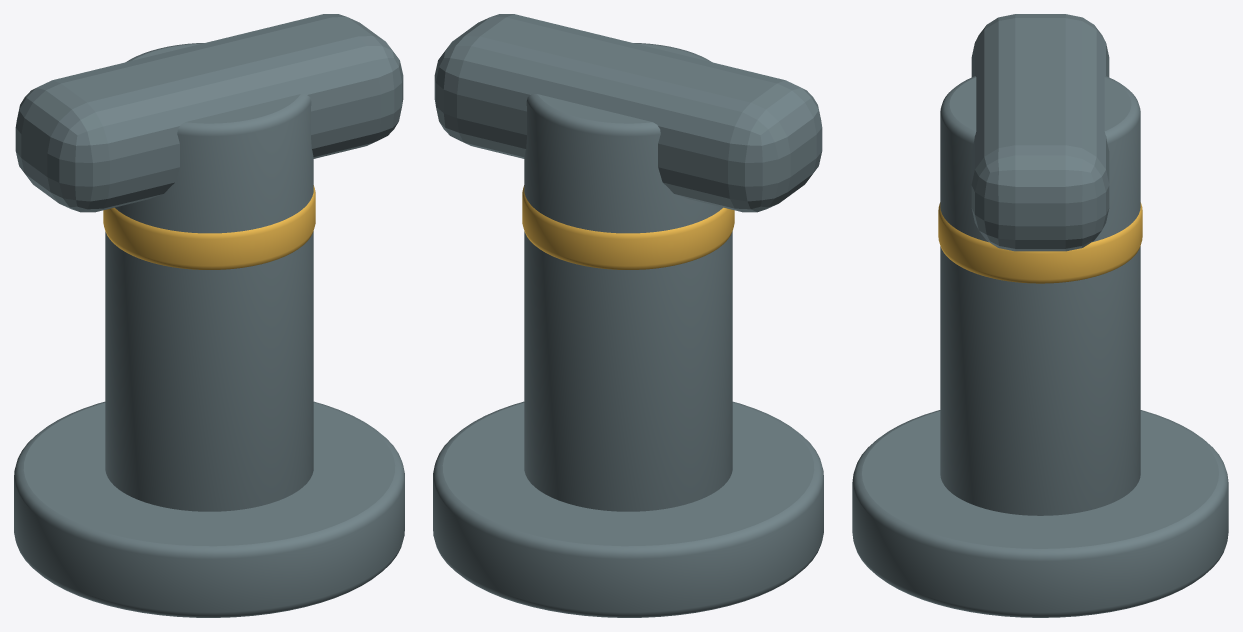
File: BollardTalas.fbx
3 views of the same model, side by side, from view 1: azimuth 30°, elevation 25°; view 2: azimuth 150°, elevation 25°; view 3: azimuth 270°, elevation 25° (orthographic). The views are drawn at different scales.
Parts seen in each view (by area): view 1: Fut bollard, Pied bollard, Tete bollard, Bande ambre; view 2: Fut bollard, Pied bollard, Tete bollard, Bande ambre; view 3: Fut bollard, Pied bollard, Tete bollard, Bande ambre.
Boxes of the visible parts, x1,y1,x2,y2 form: Fut bollard: (105, 43, 313, 511); Pied bollard: (14, 401, 404, 617); Tete bollard: (15, 14, 403, 212); Bande ambre: (103, 185, 315, 269); Fut bollard: (524, 43, 732, 511); Pied bollard: (433, 401, 823, 617); Tete bollard: (434, 14, 822, 212); Bande ambre: (522, 185, 734, 269); Fut bollard: (940, 76, 1140, 515); Pied bollard: (852, 410, 1228, 617); Tete bollard: (971, 14, 1109, 251); Bande ambre: (938, 202, 1142, 283).
Bounding box in the file's own units: 62 × 81 × 60.
